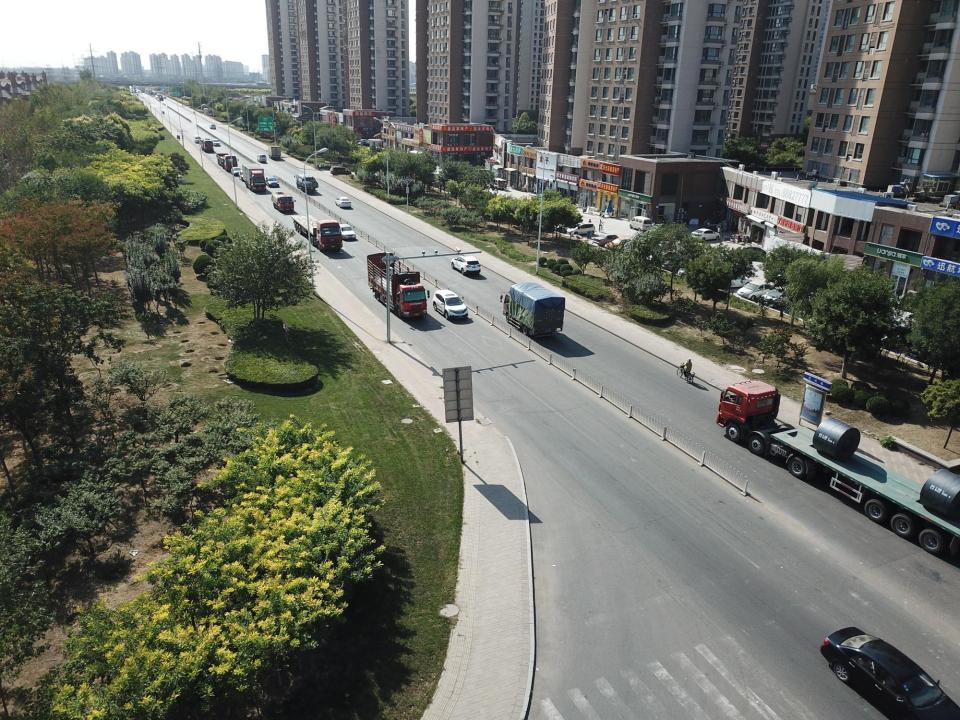car: (822, 626, 952, 720), (431, 288, 467, 320), (761, 286, 803, 310), (450, 255, 480, 276), (690, 228, 723, 242), (605, 236, 635, 251), (736, 246, 765, 258), (565, 222, 596, 233), (592, 232, 618, 243), (340, 224, 356, 240), (334, 194, 351, 208), (265, 174, 280, 186), (231, 164, 241, 174), (258, 153, 265, 162), (213, 138, 220, 146), (195, 134, 201, 142), (209, 123, 216, 129)
truck: (717, 380, 960, 568), (366, 252, 427, 321), (501, 282, 565, 338), (292, 212, 344, 254), (241, 162, 265, 192), (270, 191, 294, 213), (214, 152, 237, 170), (266, 142, 282, 160), (298, 174, 317, 189), (298, 179, 314, 194), (200, 137, 213, 153)
van: (736, 278, 779, 298), (630, 216, 649, 229), (330, 165, 352, 175)
